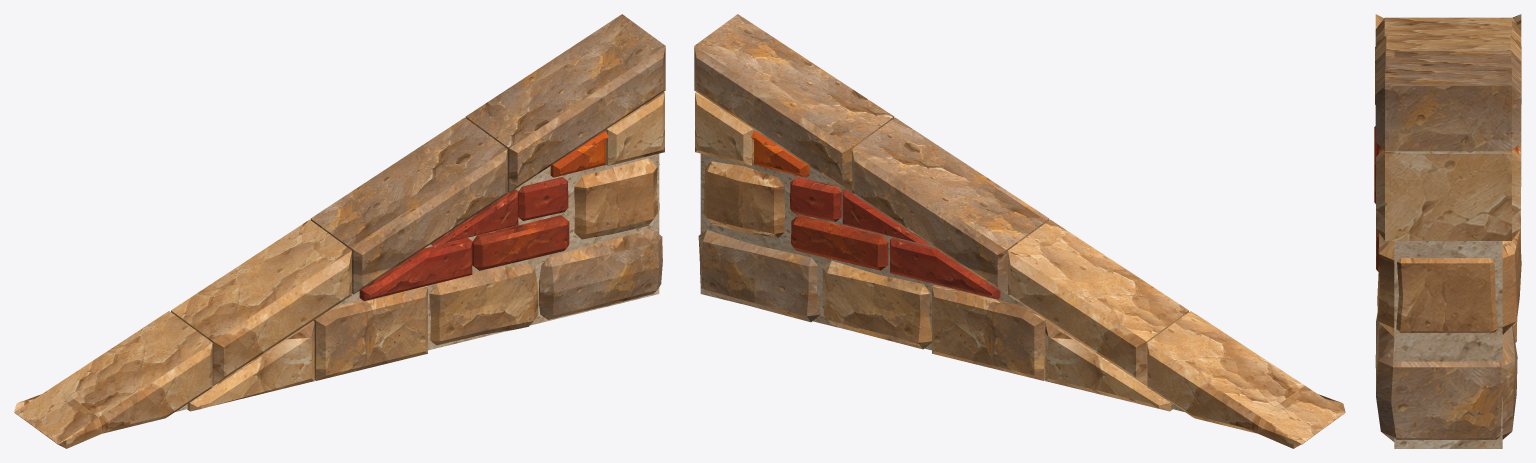
File: gable_26__clay_brick.glb
3 views of the same model, side by side, from view 1: azimuth 30°, elevation 25°; view 2: azimuth 150°, elevation 25°; view 3: azimuth 270°, elevation 25° (orthographic). The views are drawn at different scales.
Visible parts, largest first — view 1: model; view 2: model; view 3: model.
Part boxes in pixels (x1,y1,x2,y2): model: [14, 14, 665, 448]; model: [694, 14, 1345, 448]; model: [1374, 14, 1521, 448].
Bounding box in the file's own units: 1.99 × 0.7934 × 0.286.
8 materials, 8 textured.
